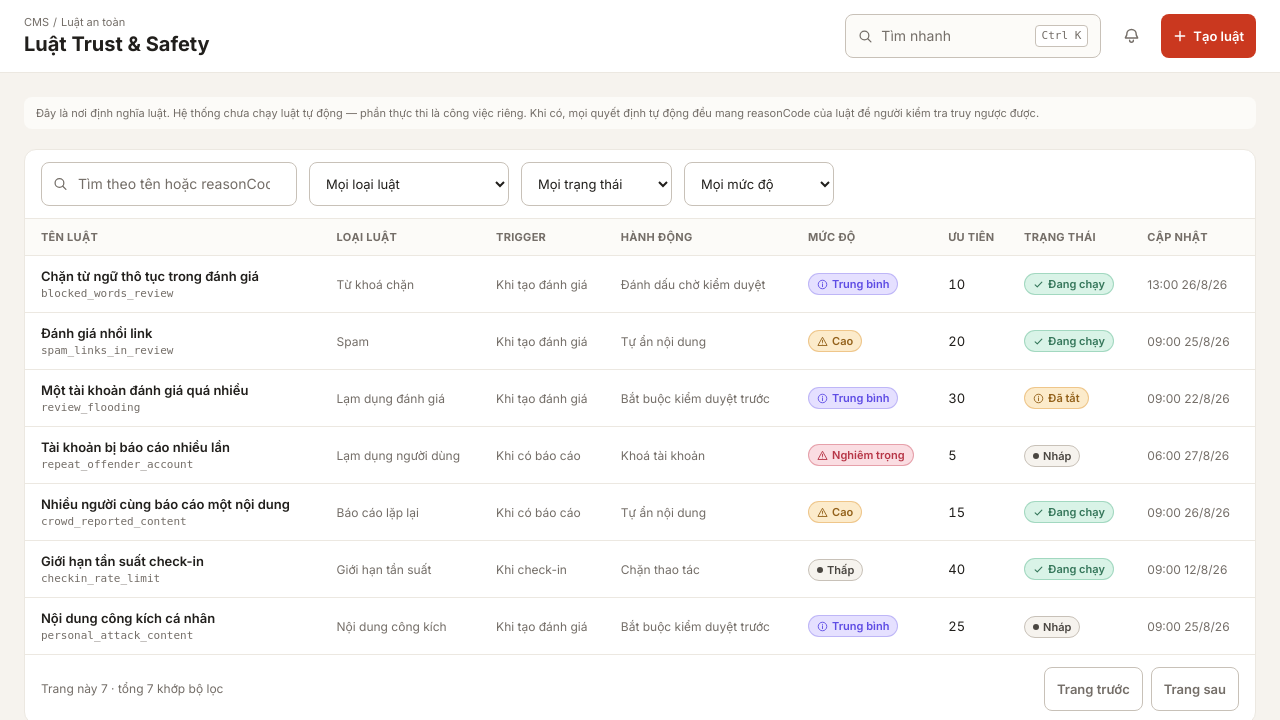
safety rule list (CMS-028) › offers only the actions the chosen rule type may take
Click the button "Tạo luật": (1209, 36) x1=1161 y1=14 x2=1256 y2=58
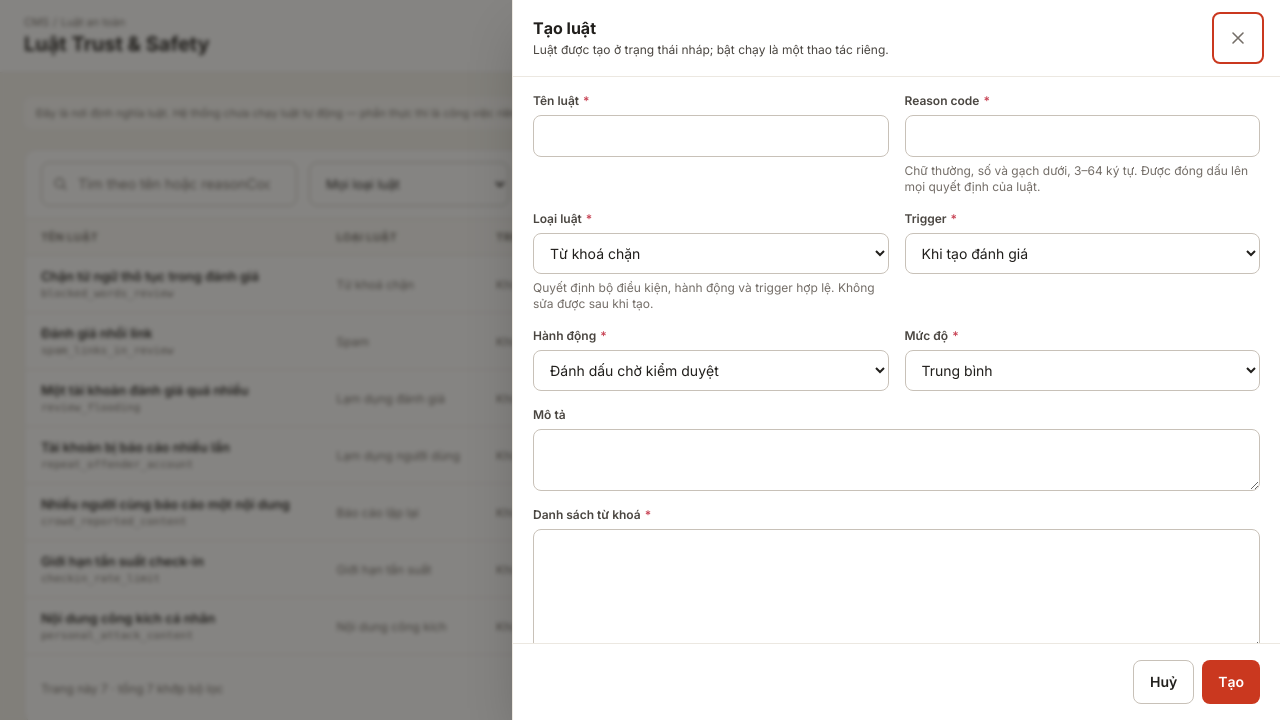
Select "Giới hạn tần suất" in the dropdown labelled "Loại luật*": (711, 254) x1=533 y1=233 x2=888 y2=274
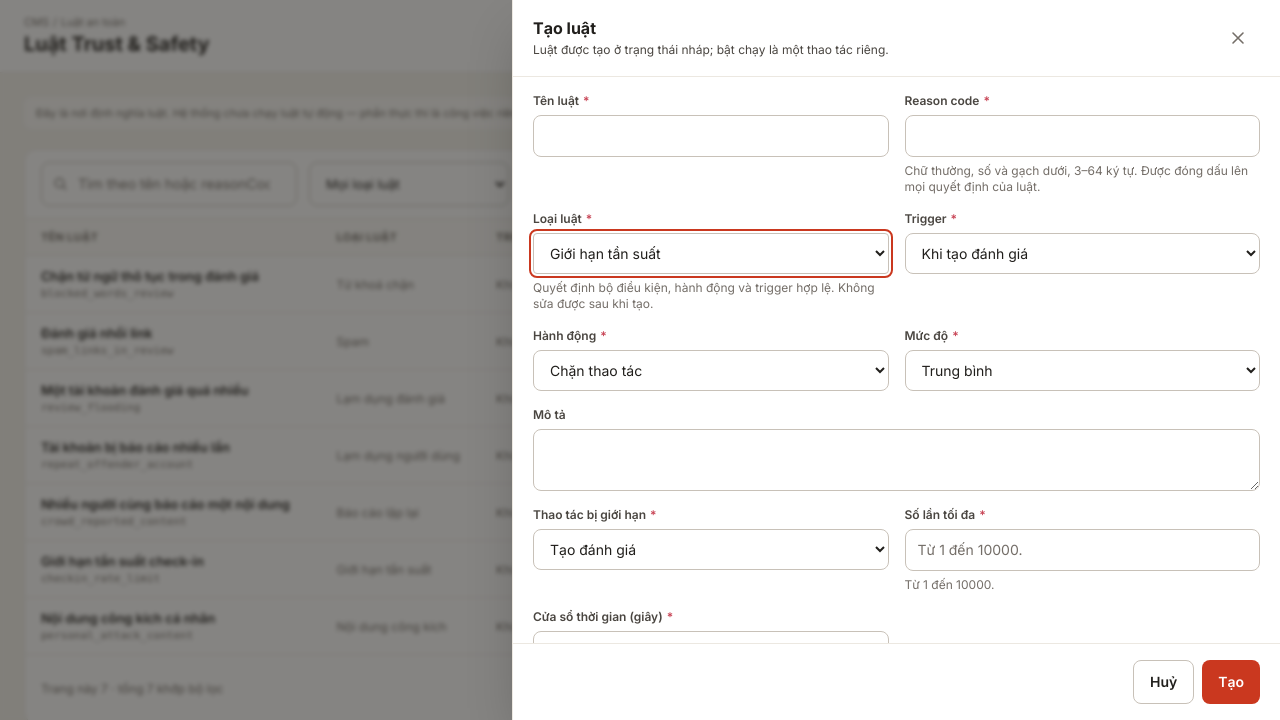
Now the field labelled "Số lần tối đa*" is shown, box x1=904 y1=529 x2=1260 y2=571
Now the label labelled "Danh sách từ khoá" is gone
